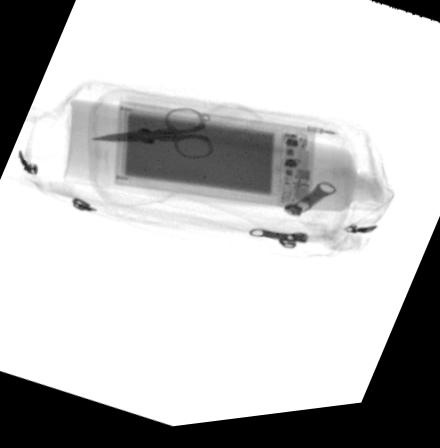Powerbank: (114, 99, 316, 221)
Scissors: (94, 107, 216, 165)
